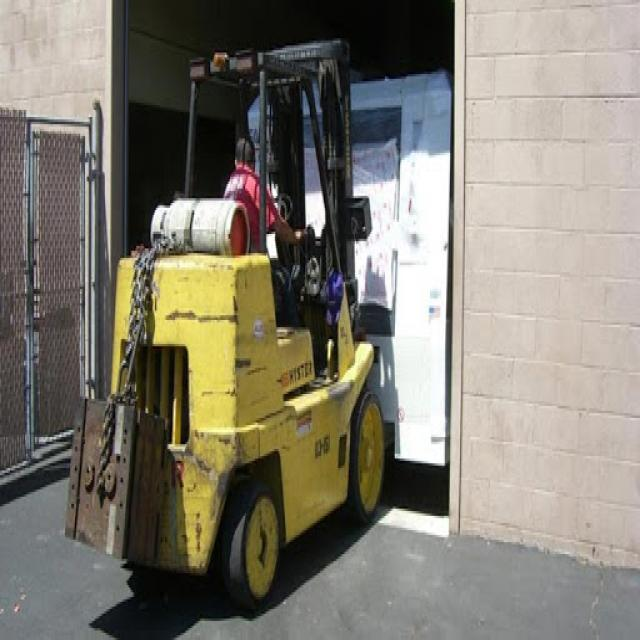Chariot elevateur: (65, 41, 397, 628)
